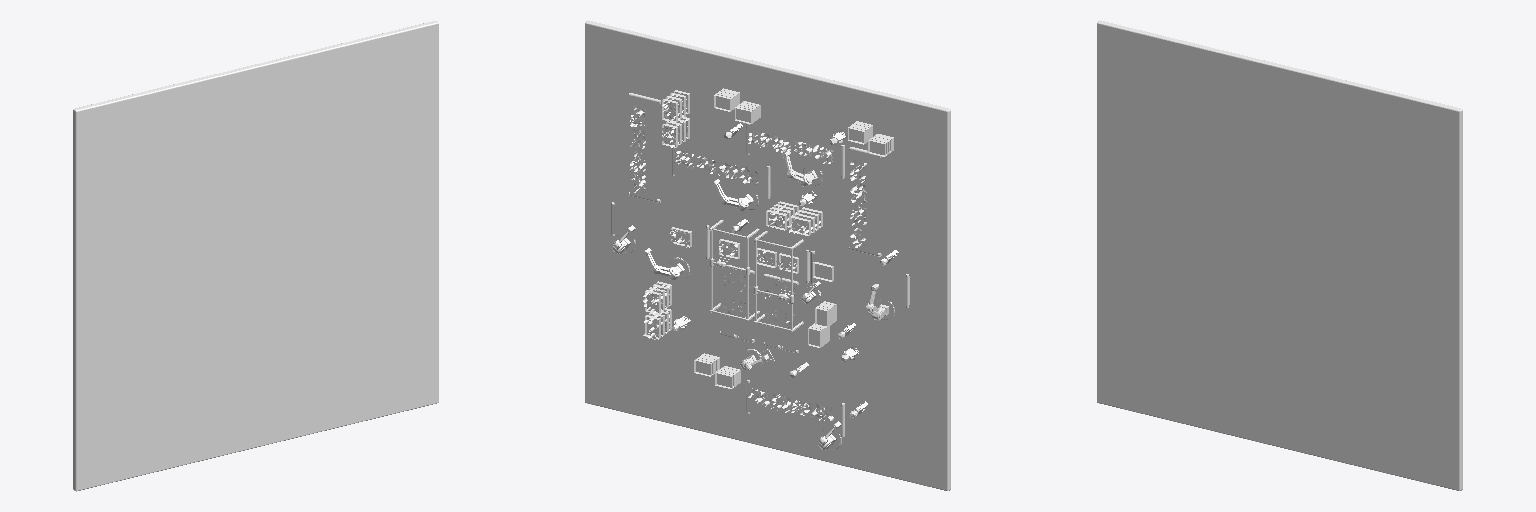
robot.urdf — factory.urdf:
<?xml version="0.0" ?>
<robot name="factory.urdf">
  <link name="baseLink">
    <contact>
      <friction_anchor/>
      <lateral_friction value="0.3"/>
      <rolling_friction value="0.0"/>
      <contact_cfm value="0.0"/>
      <contact_erp value="1.0"/>
    </contact>
    <inertial>
       <origin rpy="0 0 0" xyz="0 0 0"/>
       <mass value="0.1"/>
       <inertia ixx="8e-05" ixy="0" ixz="0" iyy="0.0002" iyz="0" izz="0.0002"/>
    </inertial>
    <visual>
      <geometry>
        <mesh filename="../meshes/factory.obj" scale="1 1 1"/>
      </geometry>
      <material name="white">
        <color rgba="1. 1. 1. 1."/>
      </material>
    </visual>
    <collision concave="yes">
      <geometry>
    	 	<mesh filename="../meshes/factory.obj" scale="1 1 1"/>
      </geometry>
    </collision>
  </link>
</robot>

--- Render facts (derived) ---
The picture shows the robot from 3 angles, left to right: view 1: azimuth 30°, elevation 25°; view 2: azimuth 150°, elevation 25°; view 3: azimuth 330°, elevation 25°; orthographic projection.
Model factory.urdf with 1 links and 0 joints (none), rooted at baseLink, posed every joint at zero.
Links seen in each view (by area): view 1: baseLink; view 2: baseLink; view 3: baseLink.
Link boxes in pixels (box(x1,y1,x2,y2)): baseLink: box(73, 21, 438, 491); baseLink: box(585, 20, 950, 490); baseLink: box(1097, 20, 1462, 490).
Size in the robot's own frame: 3000 by 296 by 3000 metres.
Meshes: 1 distinct files referenced, 1 mesh visuals loaded (1 OBJ).